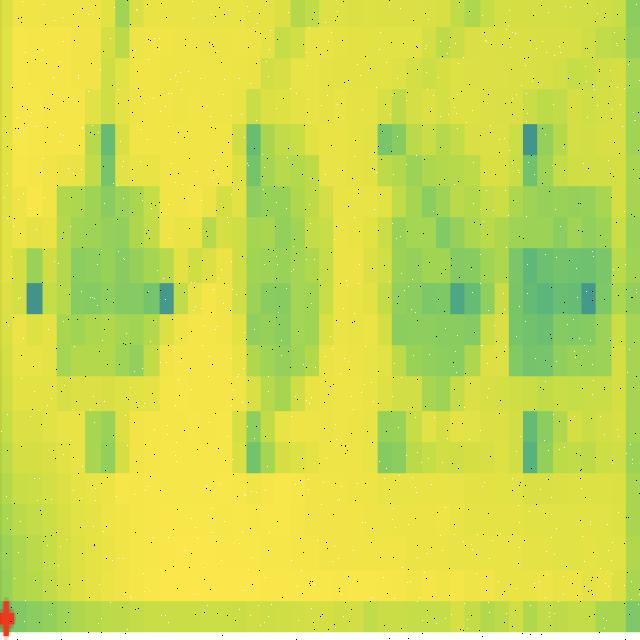Concrete: (385, 164, 487, 389)
Glass: (231, 146, 329, 408)
Metal: (508, 185, 612, 376)
Wood: (55, 187, 159, 378)
